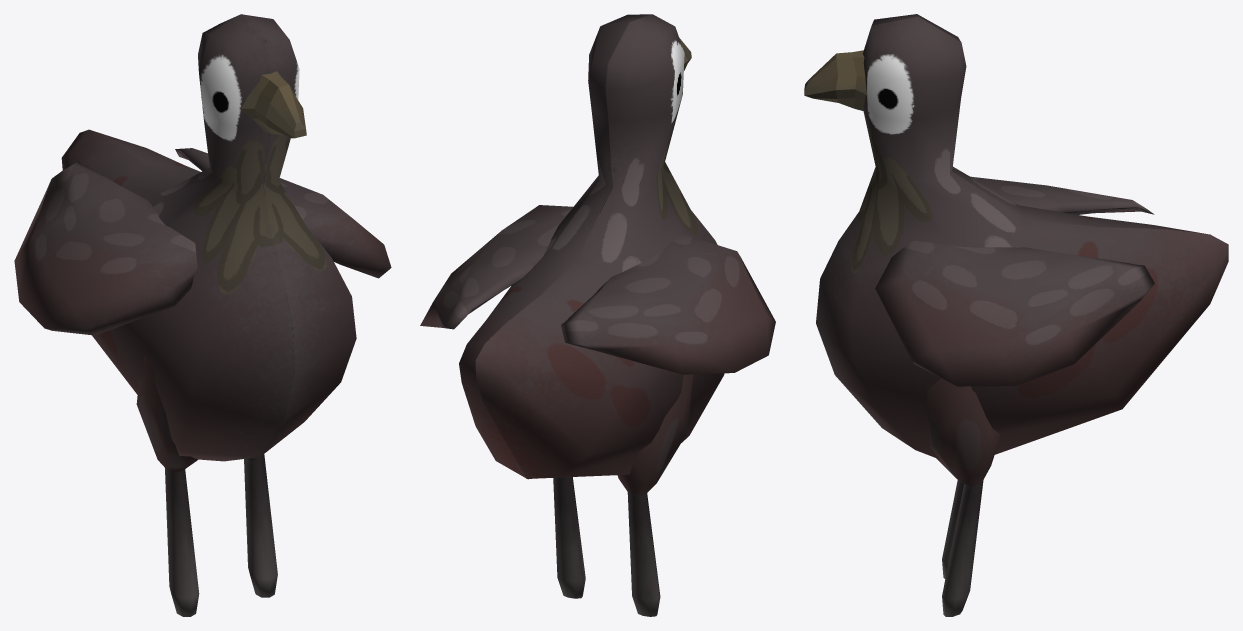
File: Duif_Fly_V1.fbx
The picture shows the model from 3 angles, left to right: view 1: azimuth 30°, elevation 25°; view 2: azimuth 150°, elevation 25°; view 3: azimuth 270°, elevation 25°; orthographic projection. The views are drawn at different scales.
Visible parts, largest first — view 1: Cube.057; view 2: Cube.057; view 3: Cube.057.
Boxes of the visible parts, x1,y1,x2,y2 form: Cube.057: (14, 14, 391, 616); Cube.057: (420, 14, 775, 616); Cube.057: (804, 14, 1228, 616).
Size of the model in its own units: 737 by 1265 by 842.
Materials: 1 (1 with a texture image).
